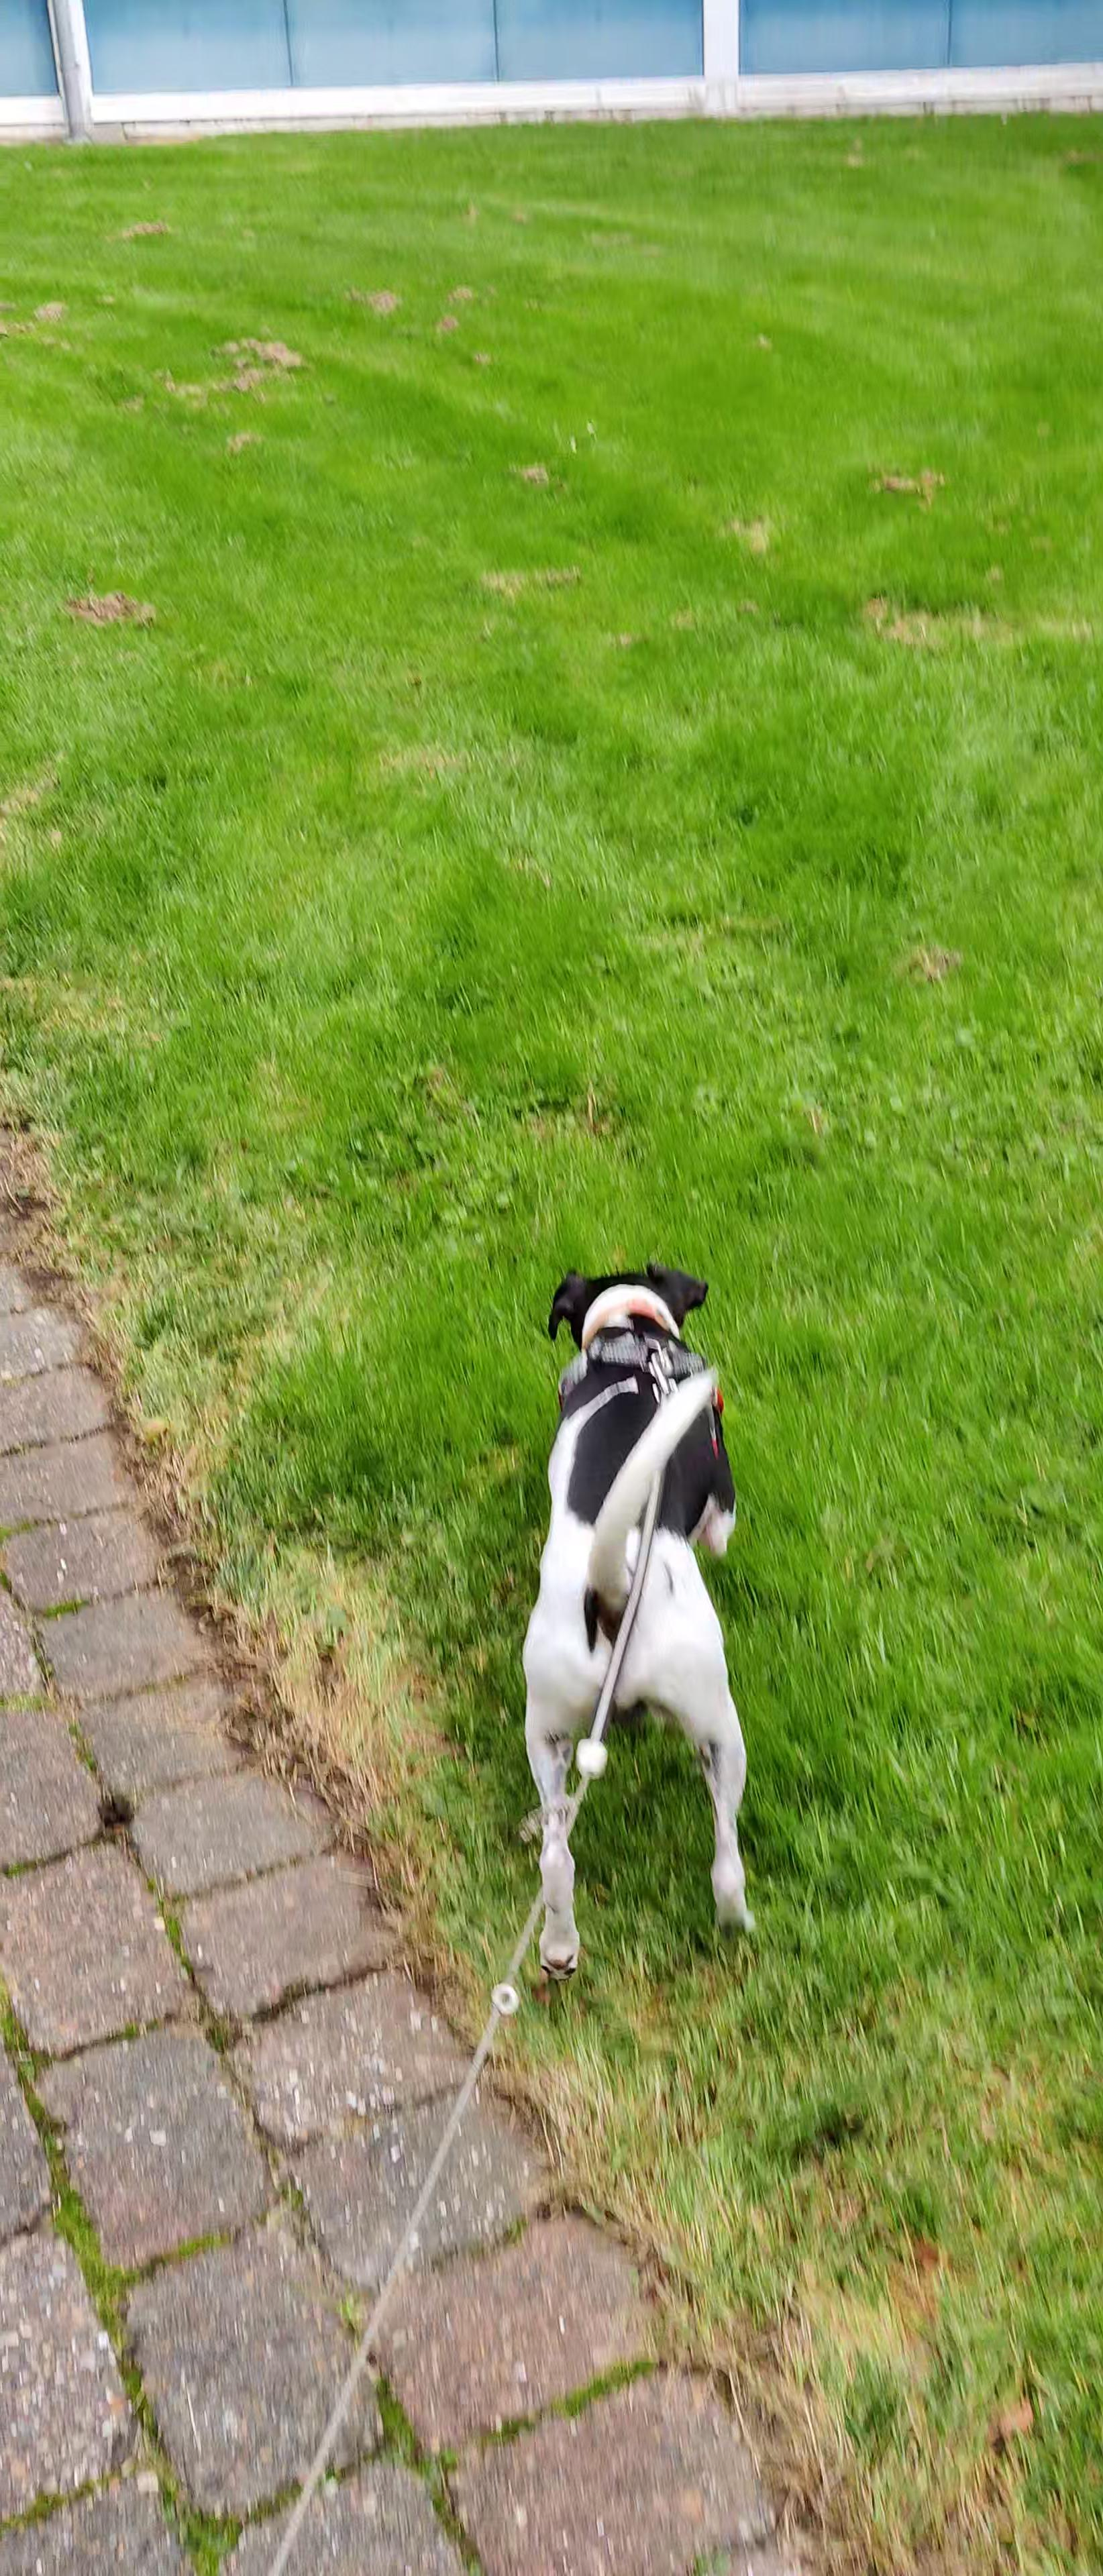Dog: (505, 1240, 791, 1993)
